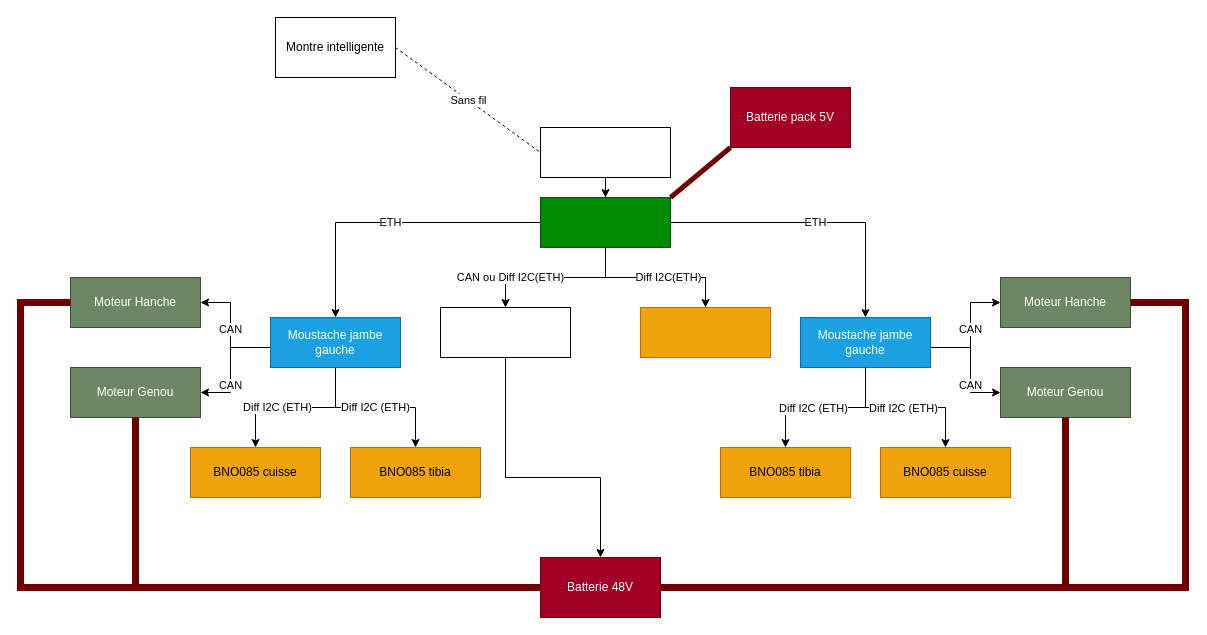
Image size: 1207x635. Some labels were removed from this diagram. The shapes that lost their labels are listed below. From the top down, each one's centre as x and y in pixels, then its label:
At pixel 605 152: "SoM ESP32-S3".
At pixel 605 222: "MOBO".
At pixel 505 332: "BMS".
At pixel 705 332: "BNO085 Dos".
